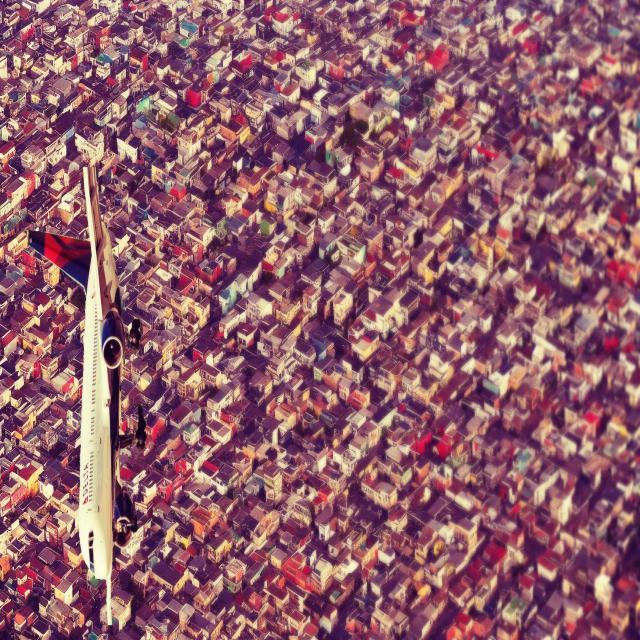airplane: (28, 153, 145, 627)
